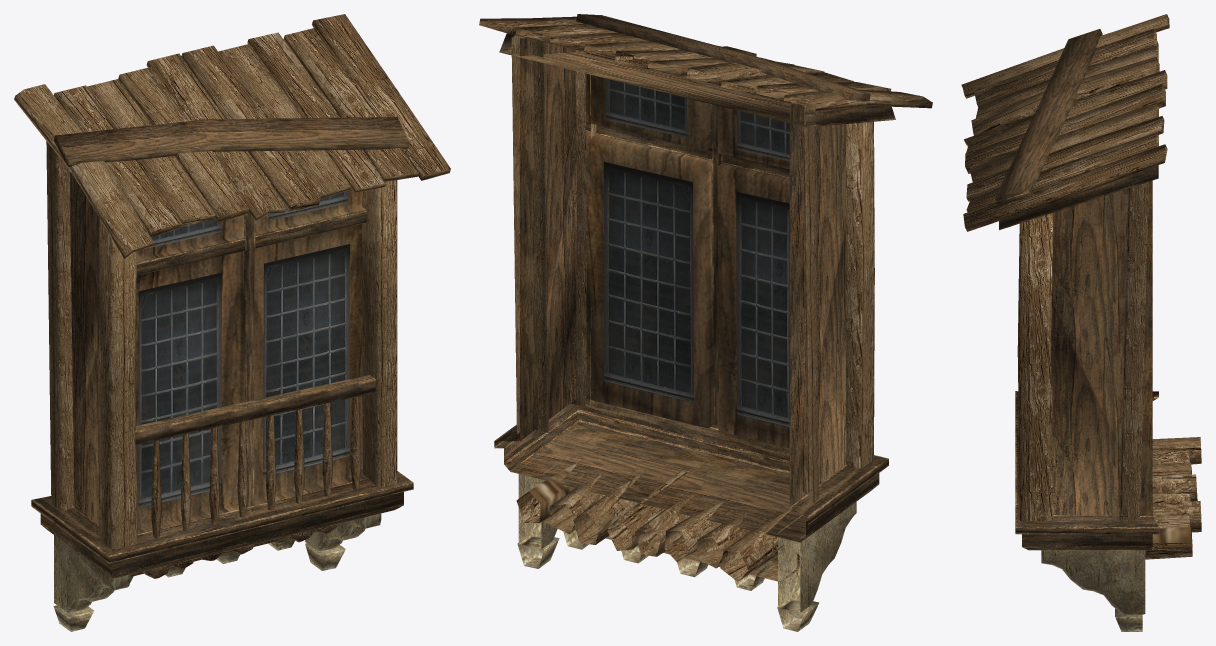
Rendered from window.obj.
3 views of the same model, side by side, from view 1: azimuth 30°, elevation 25°; view 2: azimuth 150°, elevation 25°; view 3: azimuth 270°, elevation 25° (orthographic). The views are drawn at different scales.
Parts seen in each view (by area): view 1: window.obj; view 2: window.obj; view 3: window.obj.
Boxes of the visible parts, <box> form: window.obj: <box>14,14,450,631</box>; window.obj: <box>479,14,932,631</box>; window.obj: <box>961,14,1201,631</box>.
Size of the model in its own units: 72.59 by 112 by 49.95.
4 materials, 4 textured.
